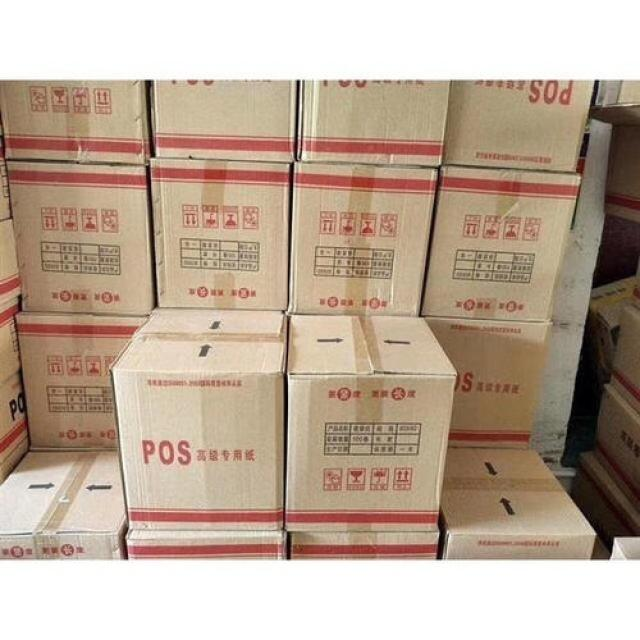box: (108, 308, 291, 530), (283, 316, 460, 531), (425, 166, 581, 321), (5, 160, 154, 315), (288, 164, 438, 316), (147, 160, 292, 311), (15, 314, 147, 449), (443, 444, 594, 558), (425, 315, 550, 447), (0, 449, 128, 562), (442, 81, 596, 172), (296, 81, 449, 168), (1, 82, 156, 161), (150, 79, 301, 160), (118, 525, 291, 561), (594, 383, 640, 513), (585, 274, 640, 379), (0, 302, 27, 483), (287, 530, 442, 559), (611, 298, 640, 412), (0, 159, 22, 305)
